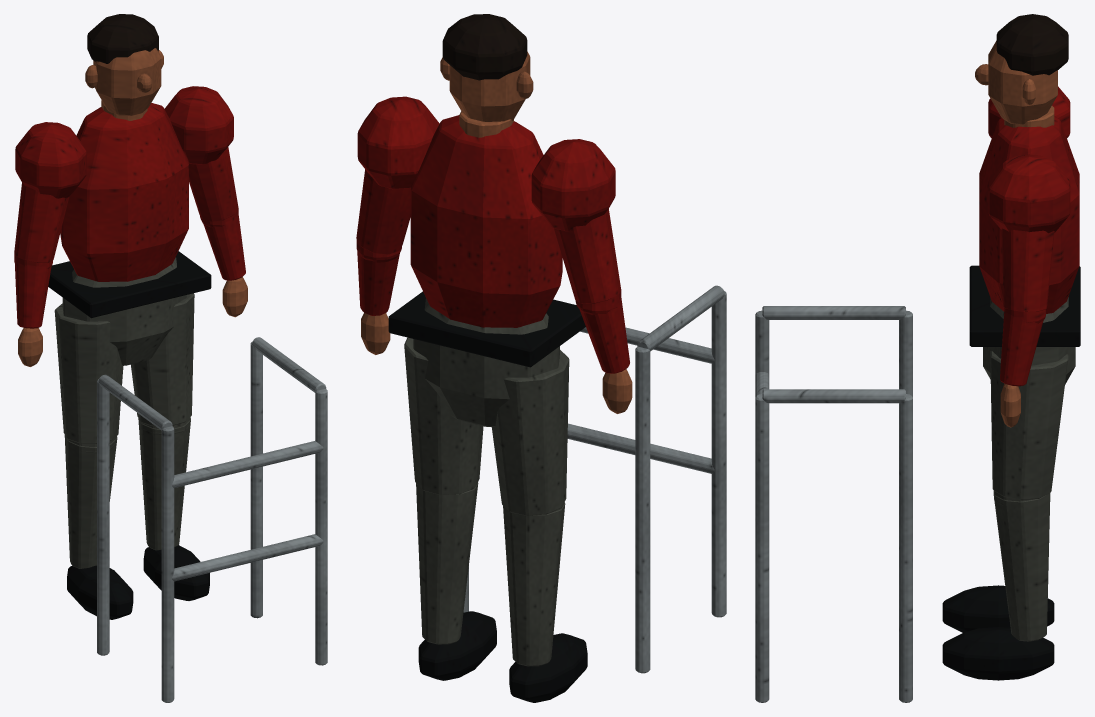
Rendered from PROP-F42FE027C62A_lod1.glb.
3 renders of one model, left to right at view 1: azimuth 30°, elevation 25°; view 2: azimuth 150°, elevation 25°; view 3: azimuth 270°, elevation 25°, orthographic. The views are drawn at different scales.
Parts seen in each view (by area): view 1: torso.049, walker_legs.001, thigh.048, shoulder.049, calf.048, upper_arm.049, belt.048, pelvis.048, walker_brace.001, shoe.048, forearm.049, head.048 (+3 smaller); view 2: torso.049, thigh.048, calf.048, shoulder.049, walker_legs.001, upper_arm.049, pelvis.048, shoe.048, belt.048, hair_cap.048, forearm.049, walker_brace.001 (+5 smaller); view 3: walker_legs.001, torso.049, thigh.048, shoe.048, calf.048, shoulder.049, walker_handle.001, upper_arm.049, belt.048, hair_cap.048, head.048, forearm.049 (+2 smaller).
Part boxes in pixels (box(x1,y1,x2,y2)): torso.049: box(60, 103, 188, 281); walker_legs.001: box(97, 341, 327, 702); thigh.048: box(54, 293, 194, 443); shoulder.049: box(15, 86, 233, 198); calf.048: box(64, 418, 190, 568); upper_arm.049: box(14, 147, 238, 262); belt.048: box(48, 251, 211, 318); pelvis.048: box(62, 257, 186, 365); walker_brace.001: box(172, 441, 323, 581); shoe.048: box(67, 545, 209, 619); forearm.049: box(15, 213, 245, 328); head.048: box(93, 48, 161, 115); torso.049: box(410, 115, 562, 327); thigh.048: box(404, 337, 569, 515); calf.048: box(416, 483, 565, 666); shoulder.049: box(357, 96, 615, 231); walker_legs.001: box(463, 291, 726, 673); upper_arm.049: box(356, 169, 621, 303); pelvis.048: box(413, 298, 559, 426); shoe.048: box(418, 611, 587, 702); belt.048: box(388, 291, 585, 367); hair_cap.048: box(442, 14, 527, 80); forearm.049: box(357, 251, 629, 373); walker_brace.001: box(567, 327, 714, 473); walker_legs.001: box(755, 310, 912, 702); torso.049: box(979, 115, 1079, 313); thigh.048: box(990, 351, 1068, 500); shoe.048: box(942, 585, 1054, 680); calf.048: box(993, 491, 1050, 641); shoulder.049: box(988, 86, 1070, 233); walker_handle.001: box(762, 306, 905, 403); upper_arm.049: box(1001, 228, 1054, 311); belt.048: box(969, 265, 1080, 346); hair_cap.048: box(996, 14, 1068, 75); head.048: box(988, 40, 1057, 124); forearm.049: box(1000, 312, 1043, 386).
Size of the model in its own units: 0.7126 by 1.72 by 0.7921.
6 materials, 6 textured.
